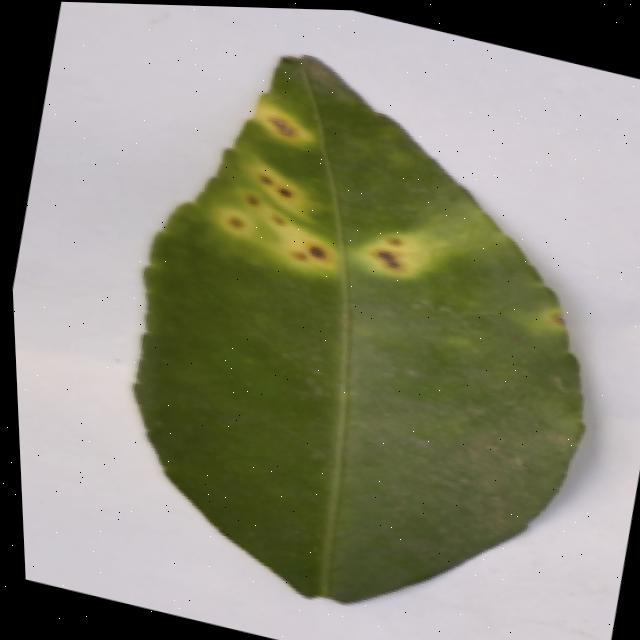canker: (133, 57, 581, 603), (204, 180, 356, 285), (252, 164, 310, 219), (369, 239, 407, 273), (272, 120, 293, 135)
